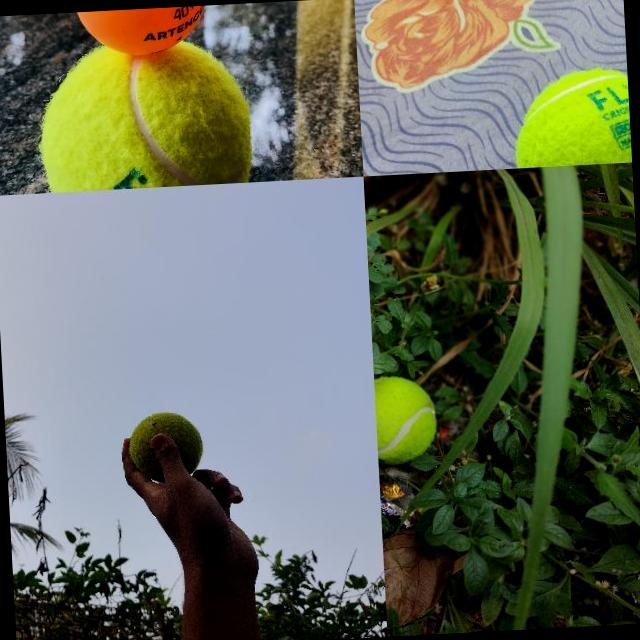Tennis Ball: (37, 51, 255, 192), (510, 66, 631, 168), (127, 409, 206, 485), (374, 373, 439, 464)
